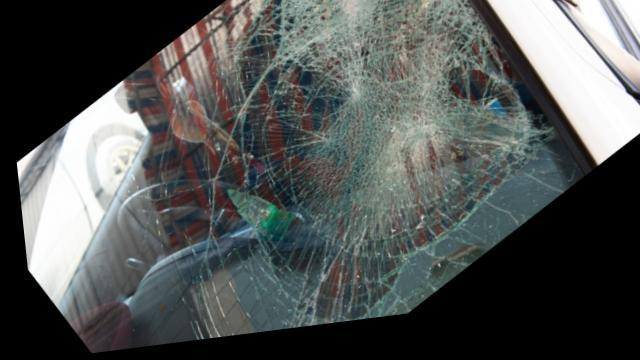glass shatter: (13, 0, 580, 355)
